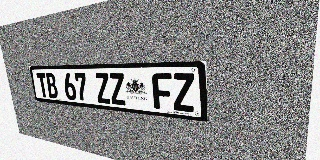6: (62, 73, 77, 101)
7: (73, 73, 89, 102)
B: (45, 73, 59, 99)
F: (152, 73, 173, 110)
T: (36, 73, 49, 98)
Z: (172, 73, 195, 112), (108, 73, 127, 106), (94, 73, 111, 104)
